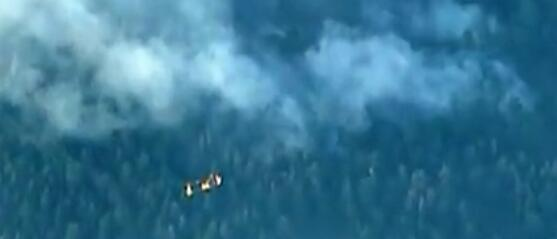fire: (183, 169, 227, 200)
smoke: (1, 0, 530, 143)
